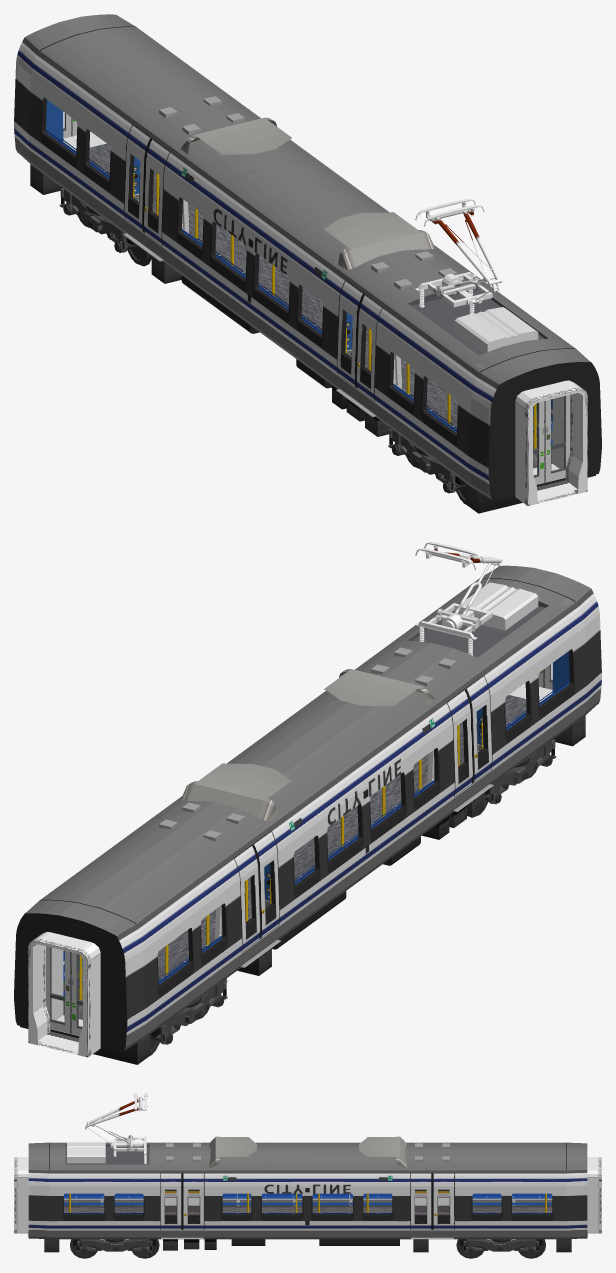
Rendered from module_city_panto_6m.obj.
3 renders of one model, top to bottom at view 1: azimuth 30°, elevation 25°; view 2: azimuth 150°, elevation 25°; view 3: azimuth 270°, elevation 25°, orthographic. The views are drawn at different scales.
Parts seen in each view (by area): view 1: m_side, m_jibung, m_aircon, m_mak, m_backout, m_floor, m_habu, m_panto6m, m_dt71, m_door_RB, m_door_RF, m_interiors (+4 smaller); view 2: m_side, m_jibung, m_aircon, m_mak, m_backout, m_floor, m_habu, m_door_RF, m_door_RB, m_dt71, m_panto6m, m_interiors (+4 smaller); view 3: m_side, m_jibung, m_oscarchair, m_aircon, m_dt71, m_mak, m_floor, m_habu, m_door_LF, m_door_LB, m_panto6m, m_heater (+4 smaller).
Boxes of the visible parts, <box> form: m_side: <box>14,15,601,499</box>; m_jibung: <box>25,14,590,384</box>; m_aircon: <box>159,96,538,352</box>; m_mak: <box>63,127,587,505</box>; m_backout: <box>492,362,597,498</box>; m_floor: <box>89,144,552,468</box>; m_habu: <box>30,164,595,513</box>; m_panto6m: <box>415,198,502,313</box>; m_dt71: <box>59,187,465,504</box>; m_door_RB: <box>125,140,358,400</box>; m_door_RF: <box>143,153,376,413</box>; m_interiors: <box>63,113,569,484</box>; m_side: <box>14,567,601,1050</box>; m_jibung: <box>25,565,590,935</box>; m_aircon: <box>159,582,538,841</box>; m_mak: <box>28,679,552,1057</box>; m_backout: <box>18,913,123,1049</box>; m_floor: <box>63,695,526,1019</box>; m_habu: <box>20,715,585,1064</box>; m_door_RF: <box>258,691,491,951</box>; m_door_RB: <box>240,704,473,964</box>; m_dt71: <box>150,738,556,1055</box>; m_panto6m: <box>415,542,502,655</box>; m_interiors: <box>46,664,552,1035</box>; m_side: <box>28,1142,587,1239</box>; m_jibung: <box>28,1142,587,1170</box>; m_oscarchair: <box>64,1193,552,1213</box>; m_aircon: <box>67,1136,449,1168</box>; m_dt71: <box>70,1239,545,1258</box>; m_mak: <box>14,1157,601,1233</box>; m_floor: <box>64,1205,552,1214</box>; m_habu: <box>28,1232,587,1252</box>; m_door_LF: <box>160,1183,432,1237</box>; m_door_LB: <box>182,1183,453,1237</box>; m_panto6m: <box>85,1093,147,1163</box>; m_heater: <box>64,1196,552,1207</box>.
Size of the model in its own units: 2.88 by 5.79 by 20.53.
Materials: 27 (27 with a texture image).
